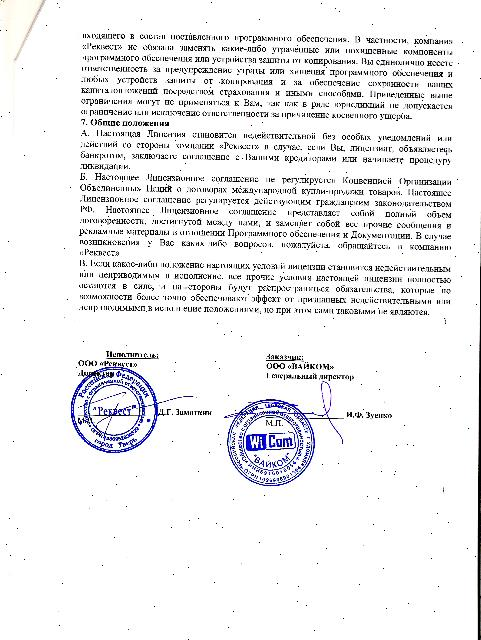stamp: (227, 400, 315, 486), (72, 366, 158, 452)
